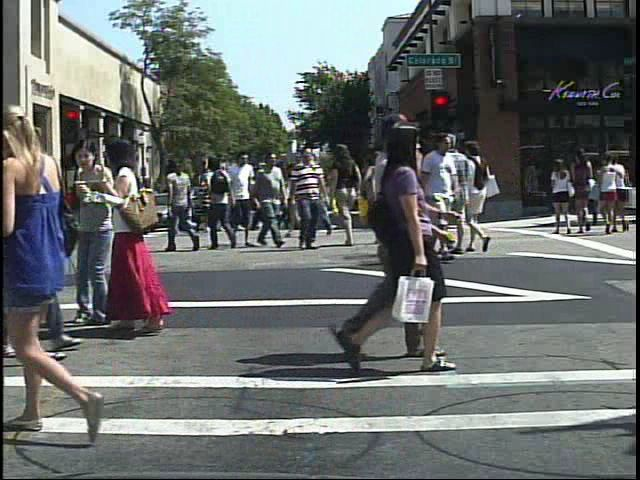person: (333, 116, 455, 381), (17, 86, 102, 446), (105, 133, 196, 343), (386, 105, 438, 366), (71, 133, 115, 335), (417, 130, 468, 257), (428, 130, 473, 262), (459, 134, 502, 262), (285, 144, 333, 254), (329, 139, 371, 252), (252, 146, 290, 255), (204, 152, 242, 255), (223, 149, 260, 254), (163, 151, 200, 256), (364, 145, 401, 249), (550, 152, 578, 237), (197, 170, 218, 238), (66, 182, 86, 232)
